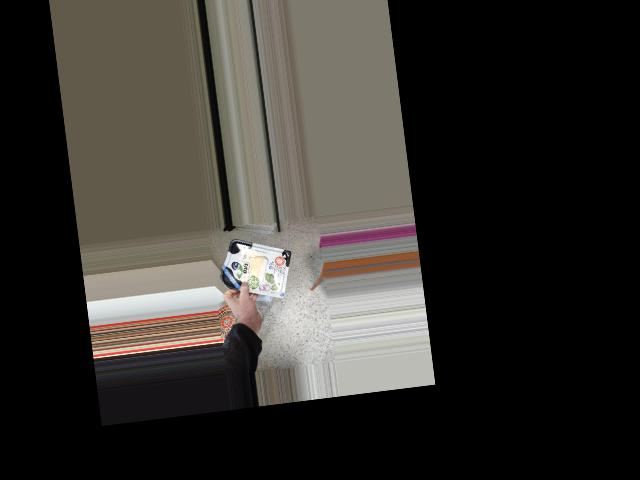cheese: (221, 239, 290, 294)
